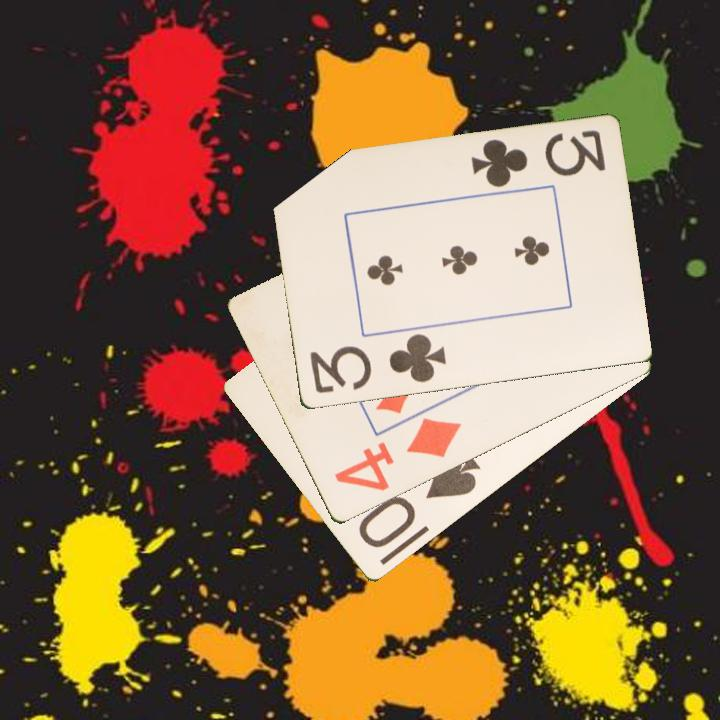10s: (354, 450, 484, 552)
3c: (306, 331, 449, 397), (467, 127, 608, 191)
4d: (330, 414, 464, 495)
